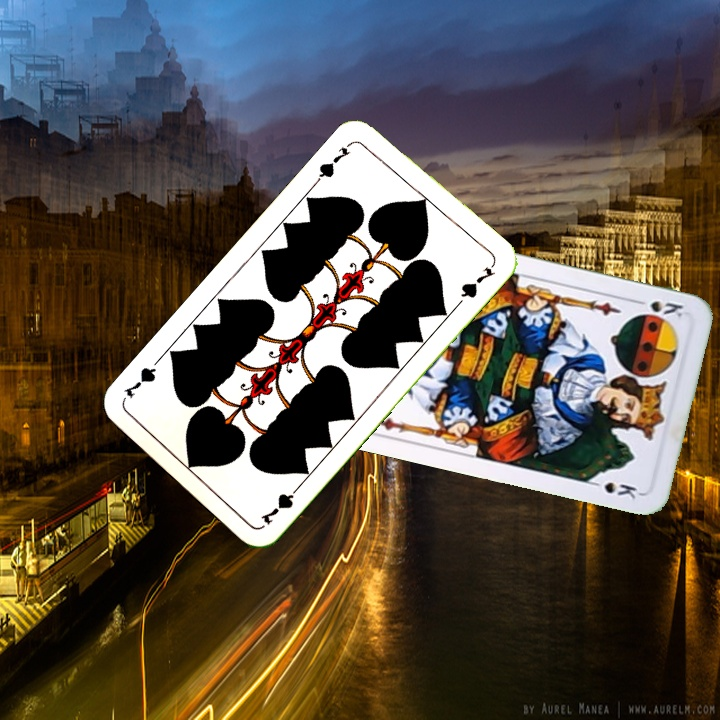G7: (256, 479, 305, 528), (312, 137, 356, 186)
SK: (629, 295, 686, 320)
